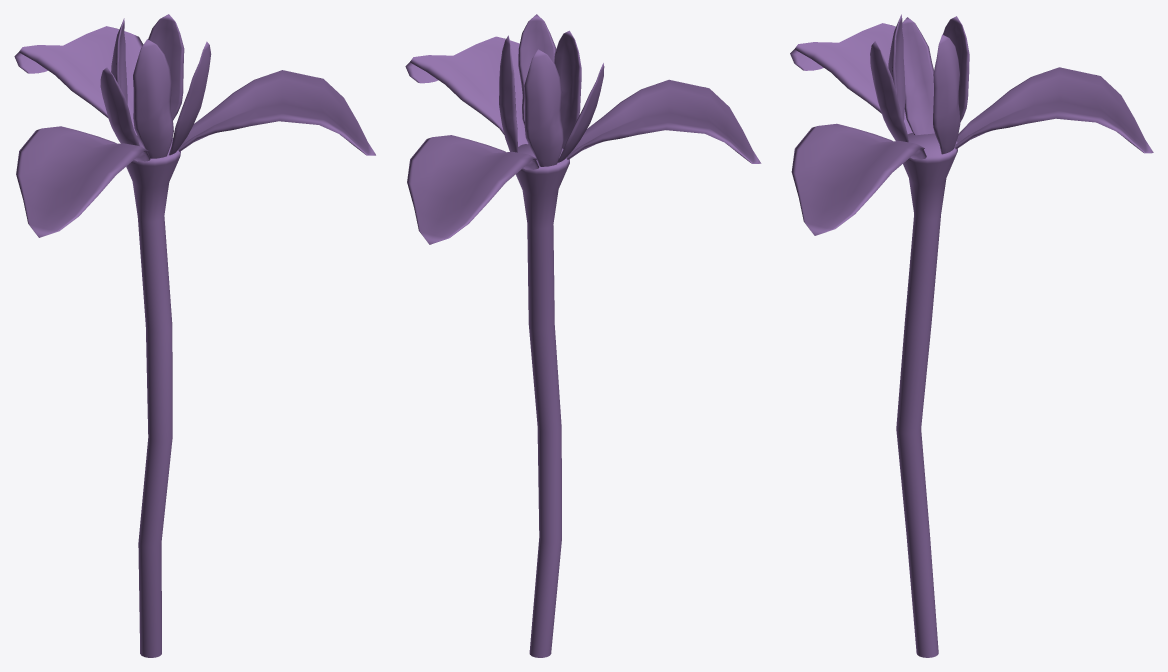
File: Iris_Low.fbx
The picture shows the model from 3 angles, left to right: view 1: azimuth 30°, elevation 25°; view 2: azimuth 150°, elevation 25°; view 3: azimuth 270°, elevation 25°; orthographic projection. The views are drawn at different scales.
Parts seen in each view (by area): view 1: Iris_Low; view 2: Iris_Low; view 3: Iris_Low.
Boxes of the visible parts, <box> form: Iris_Low: <box>14,14,375,657</box>; Iris_Low: <box>405,14,761,657</box>; Iris_Low: <box>790,14,1153,657</box>.
Bounding box in the file's own units: 4.53 × 8.02 × 4.19.
